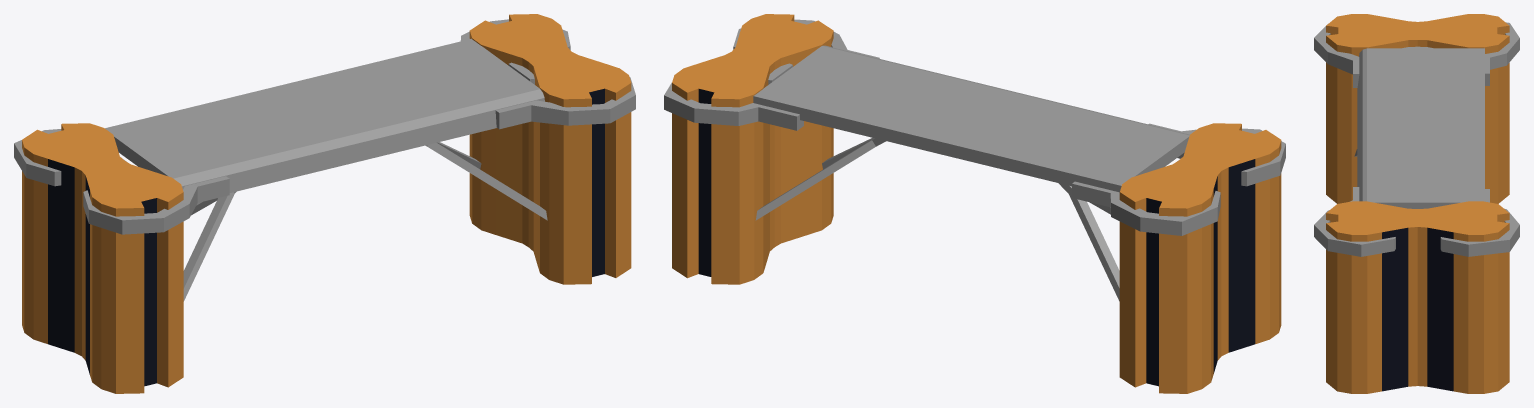
Rendered from ladder.fbx.
The picture shows the model from 3 angles, left to right: view 1: azimuth 30°, elevation 25°; view 2: azimuth 150°, elevation 25°; view 3: azimuth 270°, elevation 25°; orthographic projection. The views are drawn at different scales.
Visible parts, largest first — view 1: Cylinder, Plane, Plane.001; view 2: Cylinder, Plane, Plane.001; view 3: Cylinder, Plane.
Part boxes in pixels (box(x1,y1,x2,y2)): Cylinder: box(22, 14, 631, 393); Plane: box(14, 19, 635, 234); Plane.001: box(183, 142, 547, 301); Cylinder: box(672, 14, 1281, 393); Plane: box(664, 19, 1285, 235); Plane.001: box(755, 138, 1119, 301); Cylinder: box(1326, 14, 1509, 393); Plane: box(1314, 22, 1519, 256).
Bounding box in the file's own units: 160 × 52.37 × 61.39.
